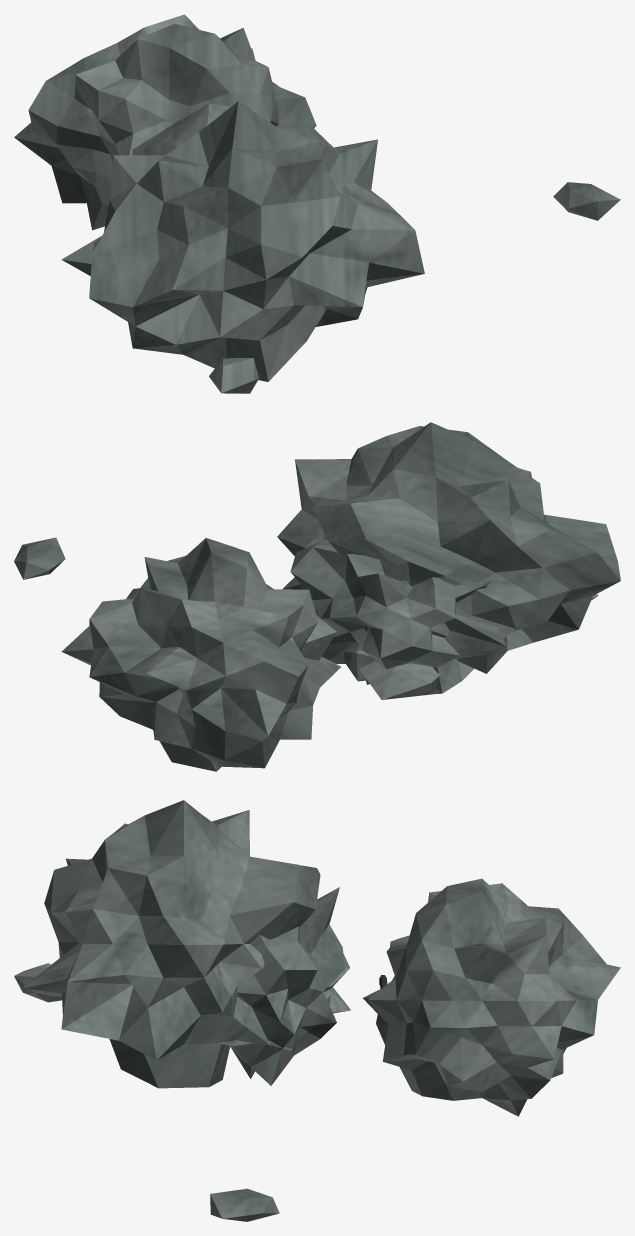
The model's file is 0021_boulder_21.glb.
3 renders of one model, top to bottom at view 1: azimuth 30°, elevation 25°; view 2: azimuth 150°, elevation 25°; view 3: azimuth 270°, elevation 25°, orthographic. The views are drawn at different scales.
Visible parts, largest first — view 1: stone; view 2: stone; view 3: stone.
Part boxes in pixels (x1,y1,x2,y2): stone: (14,14,620,393); stone: (14,422,620,771); stone: (14,800,620,1221).
Size of the model in its own units: 2.38 by 1.02 by 2.11.
Materials: 2 (2 with a texture image).
